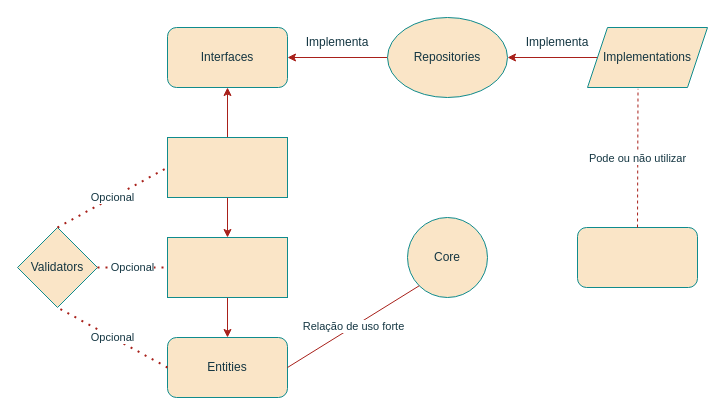
This 725x415 diagram has some shape labels left out. Here are the shapes that lost their labels. From the top down, the box of each, then its label:
(166, 136, 288, 198): Controller
(166, 236, 288, 298): Use case
(576, 226, 698, 288): Infra
